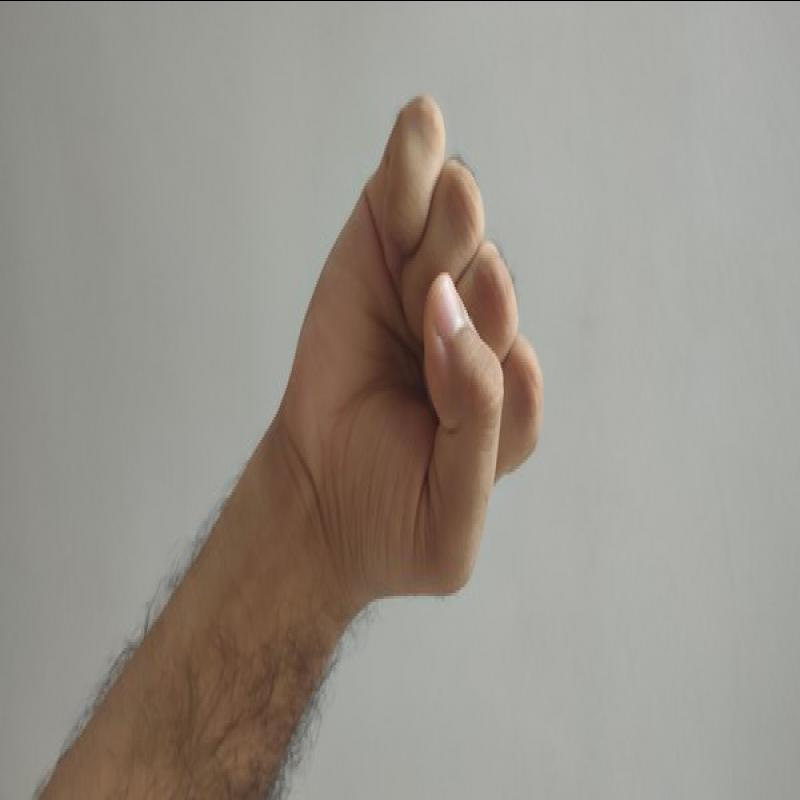Mushti: (274, 76, 568, 613)
